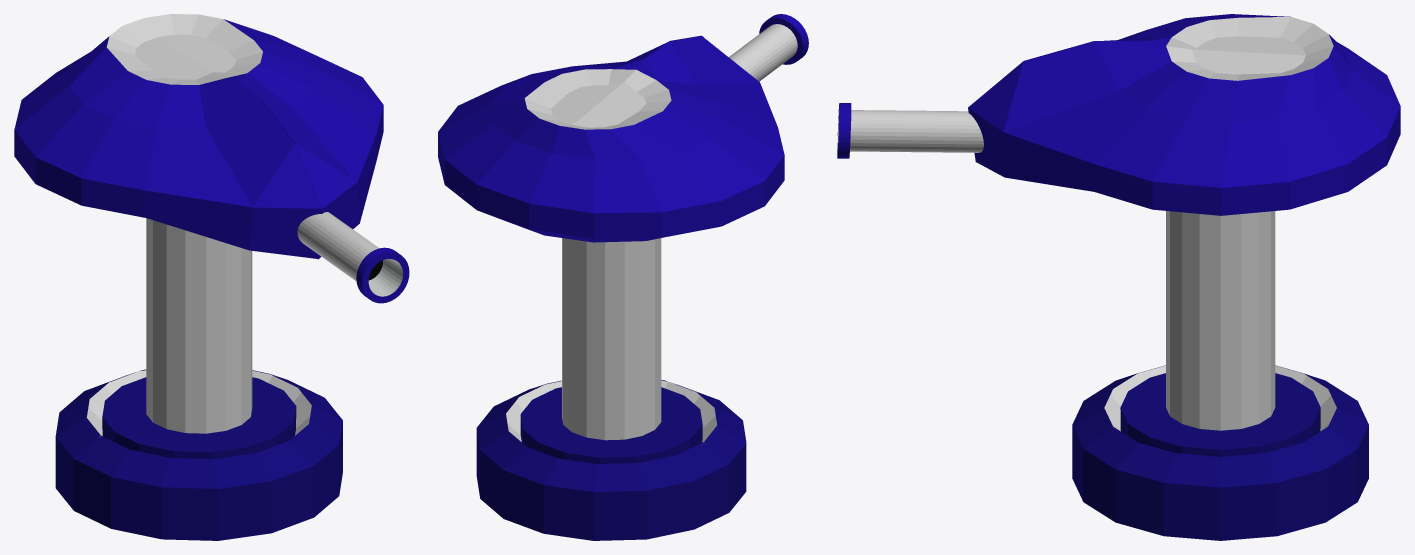
The picture shows the model from 3 angles, left to right: view 1: azimuth 30°, elevation 25°; view 2: azimuth 150°, elevation 25°; view 3: azimuth 270°, elevation 25°; orthographic projection. The views are drawn at different scales.
Parts seen in each view (by area): view 1: Circle.001, Circle; view 2: Circle.001, Circle; view 3: Circle.001, Circle.
Part boxes in pixels (<box>): Circle.001: <box>14,14,409,303</box>; Circle: <box>55,218,342,540</box>; Circle.001: <box>438,14,808,242</box>; Circle: <box>476,238,746,540</box>; Circle.001: <box>837,14,1400,215</box>; Circle: <box>1072,211,1368,540</box>.
Size of the model in its own units: 261 by 325 by 380.
